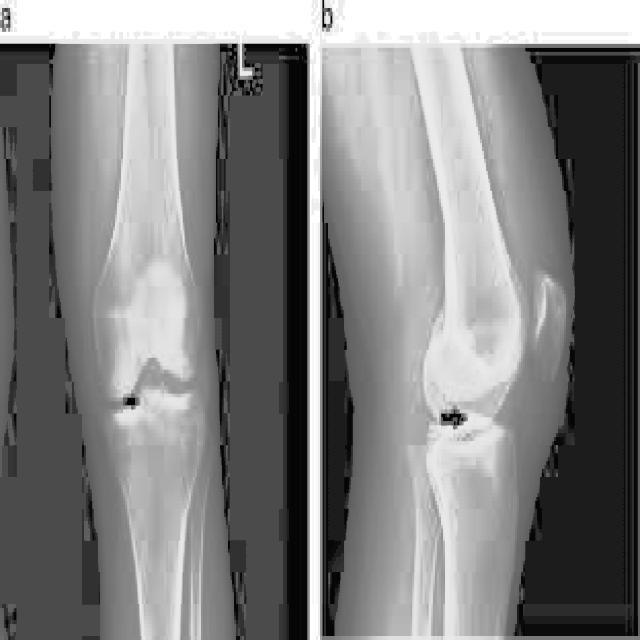Avlusion Fracture: (458, 404, 508, 444), (135, 386, 182, 416)
